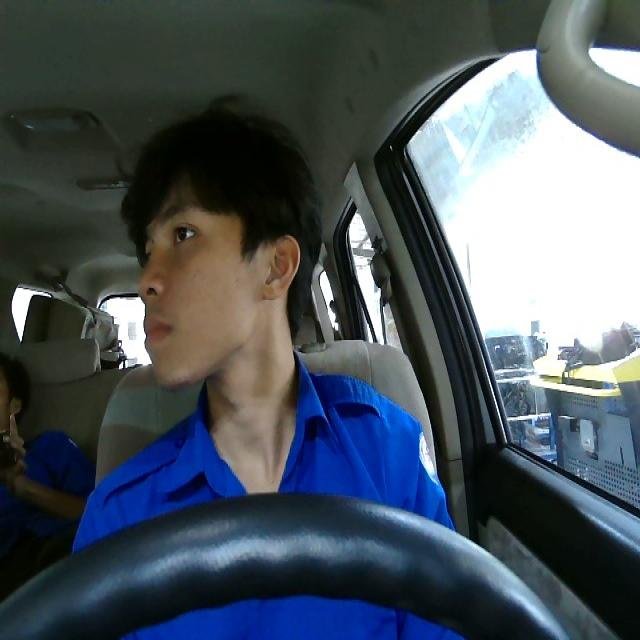seeing_left: (136, 172, 302, 391)
